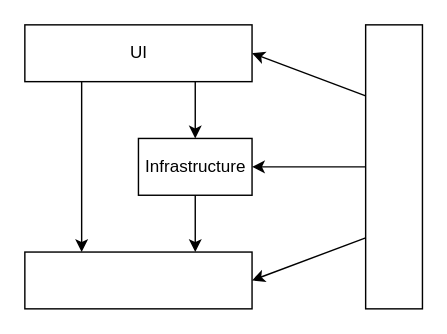
This 447x334 diagram has some shape labels left out. Here are the shapes that lost their labels. From the top down, the box of each, then its label:
(364, 23, 422, 309): Test
(23, 251, 252, 309): Domain
